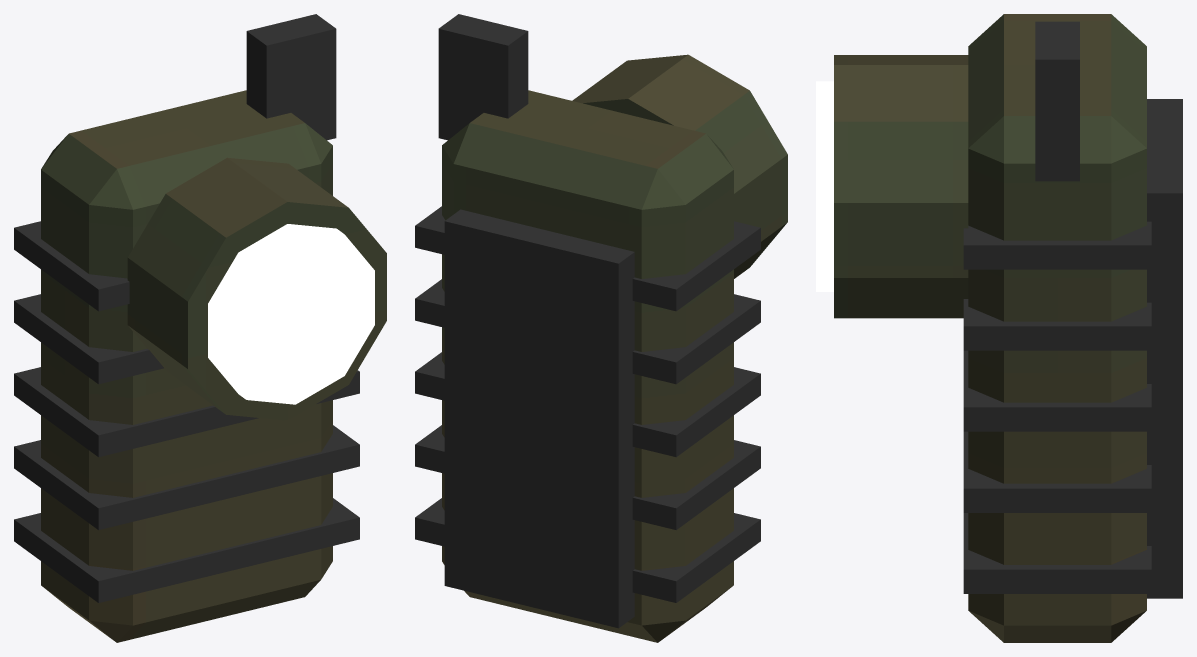
File: flashlight.glb
3 renders of one model, left to right at view 1: azimuth 30°, elevation 25°; view 2: azimuth 150°, elevation 25°; view 3: azimuth 270°, elevation 25°, orthographic. The views are drawn at different scales.
Visible parts, largest first — view 1: flashlight; view 2: flashlight; view 3: flashlight.
Part boxes in pixels (box(x1,y1,x2,y2)): flashlight: box(14, 14, 386, 642); flashlight: box(415, 14, 787, 642); flashlight: box(816, 14, 1182, 642).
Size of the model in its own units: 0.0775 by 0.15 by 0.082.
Materials: 3 (1 with a texture image).
